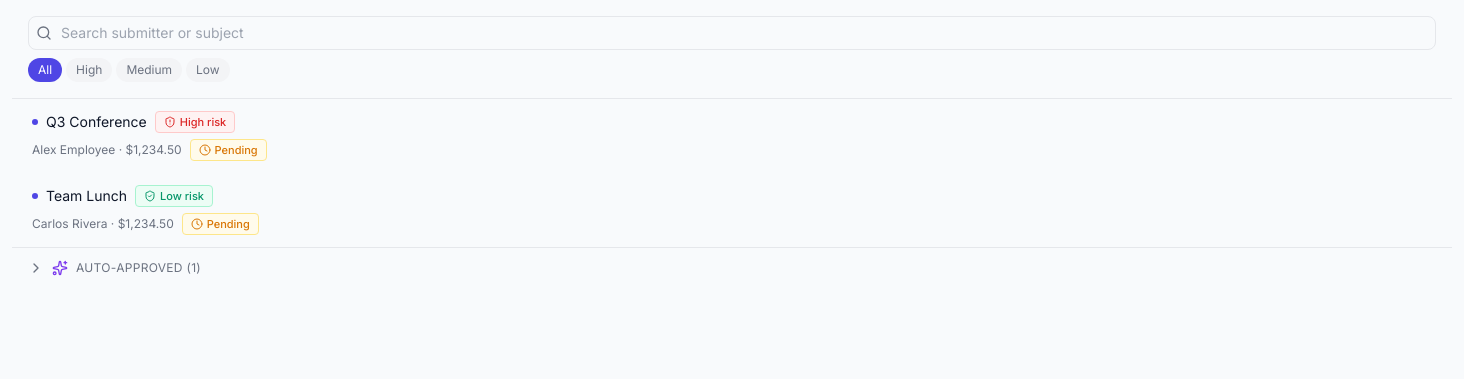
ApprovalQueue › expands the auto-approved lane to reveal each item's rationale (G8)
What coordinates should you click on to do the following:
click the button "Auto-Approved (1)"
I would click on:
 (134, 268)
Its box is [12,248,1452,288].
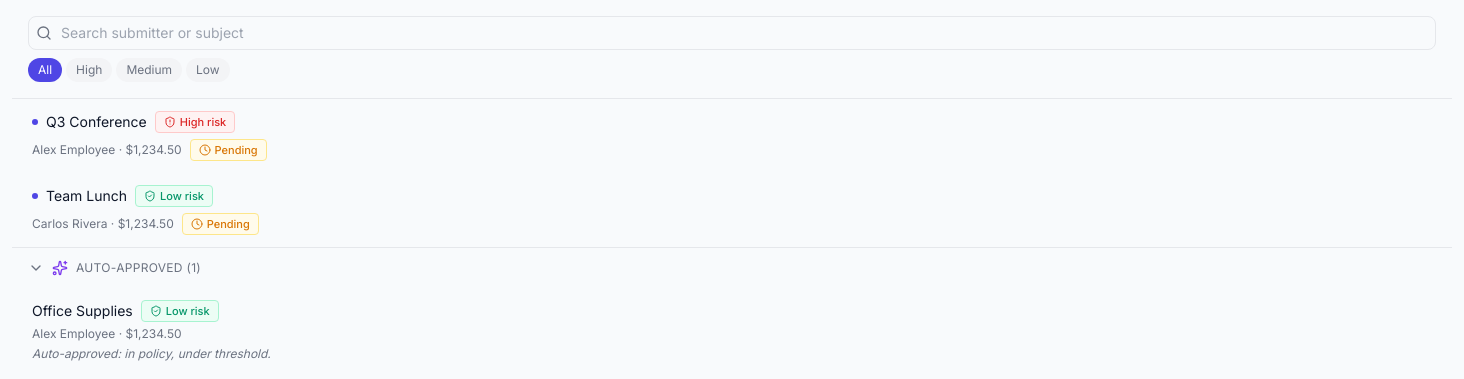
Expected: the text "Office Supplies" is shown, [32,301,133,321]
Expected: the text "Auto-approved: in policy, under threshold." is shown, [32,346,271,362]
